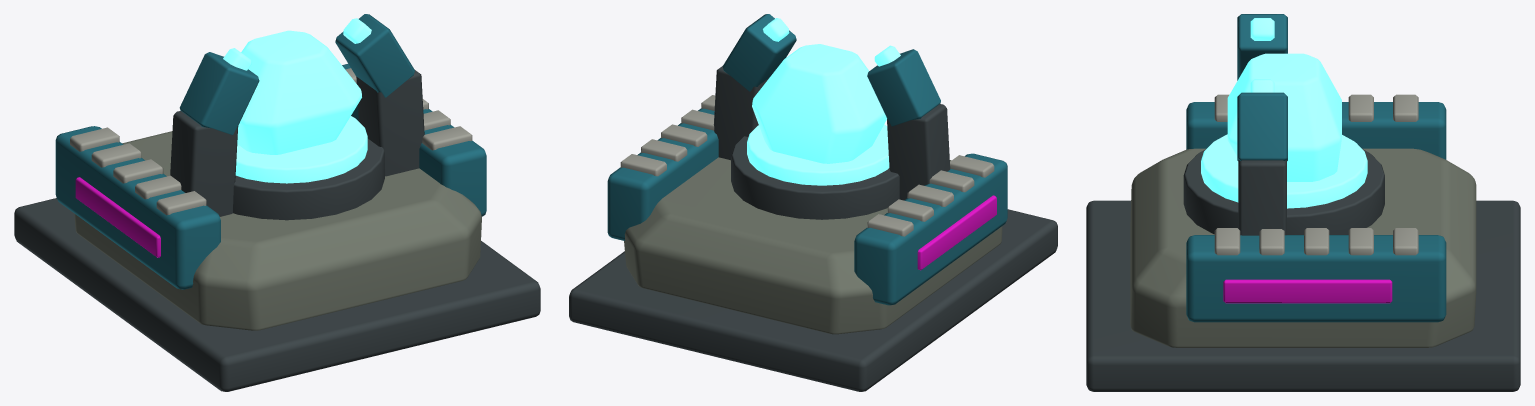
The model's file is military-truck-shield.glb.
3 views of the same model, side by side, from view 1: azimuth 30°, elevation 25°; view 2: azimuth 150°, elevation 25°; view 3: azimuth 270°, elevation 25° (orthographic). The views are drawn at different scales.
Parts seen in each view (by area): view 1: TurretShell; view 2: TurretShell; view 3: TurretShell.
Boxes of the visible parts, x1=… form: TurretShell: x1=14, y1=14, x2=540, y2=391; TurretShell: x1=569, y1=14, x2=1057, y2=391; TurretShell: x1=1086, y1=14, x2=1520, y2=391.
Bounding box in the file's own units: 1.21 × 0.9312 × 1.38.
